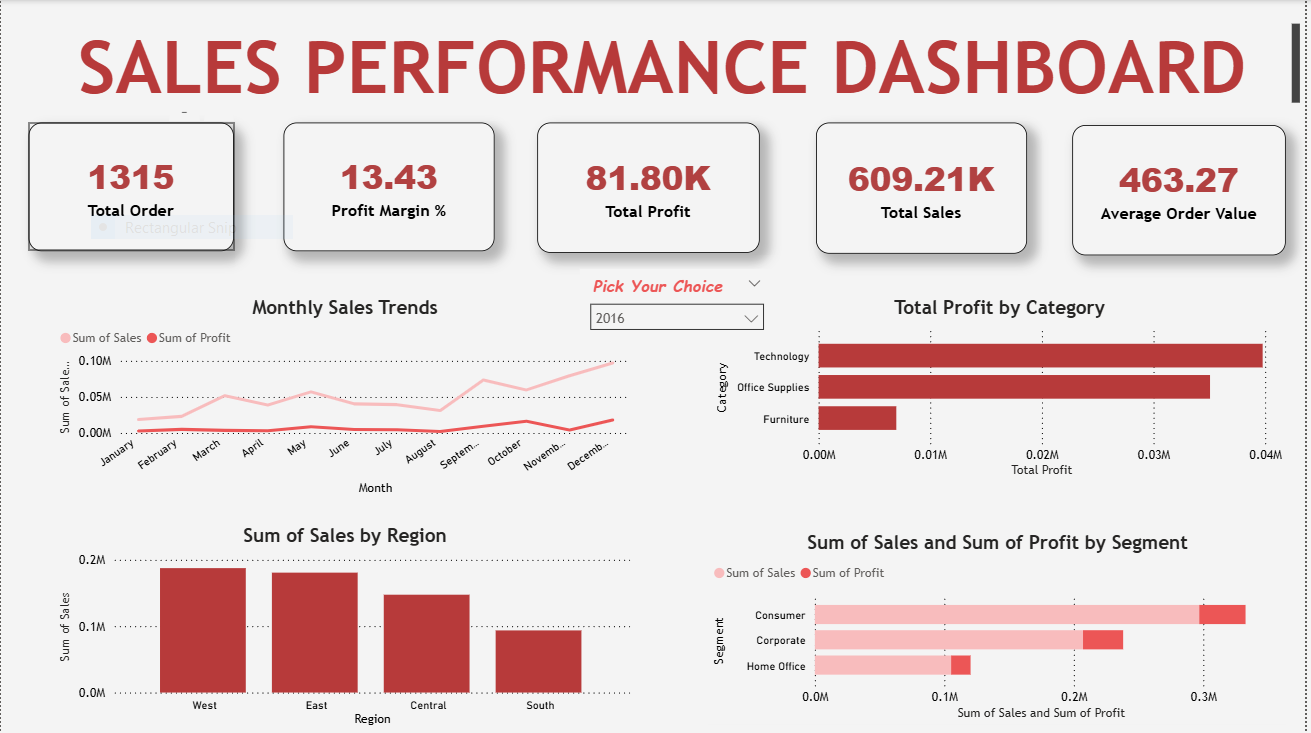

Layout of this report page (visuals, bound fields, positions):
{"tool":"powerbi","page":{"name":"Page 1","canvas":[1280,720],"ordinal":0},"visuals":[{"type":"card","fields":{"Values":["Sheet111.Total Order"]},"box":[27.4,120.8,201.7,126.2],"z":0},{"type":"card","fields":{"Values":["Sheet111.Total Profit"]},"box":[526.9,120.8,218.2,127.6],"z":1000},{"type":"card","fields":{"Values":["Sheet111.Total Sales"]},"box":[800,120.8,207.2,129],"z":2000},{"type":"card","fields":{"Values":["Sheet111.Profit Margin %"]},"box":[277.2,120.8,207.2,126.2],"z":3000},{"type":"card","fields":{"Values":["Sheet111.AOV"]},"box":[1051.1,122.1,209.9,127.6],"z":4000},{"type":"lineChart","title":" Monthly Sales Trends","fields":{"Y":["Sum(Sheet111.Sales)","Sum(Sheet111.Profit)"],"Category":["Sheet111.Order Date.Variation.Date Hierarchy.Month"]},"box":[52.3,290.7,569.8,200],"z":5000},{"type":"clusteredBarChart","fields":{"Y":["Sheet111.Total Profit"],"Category":["Sheet111.Category"]},"box":[697.7,290.7,564,182.6],"z":6000},{"type":"slicer","fields":{"Values":["Sheet111.Year","Sheet111.Category","Sheet111.Segment","Sheet111.Month"]},"box":[568.6,264,190.7,75.6],"z":7000},{"type":"barChart","fields":{"Category":["Sheet111.Segment"],"Y":["Sum(Sheet111.Sales)","Sum(Sheet111.Profit)"]},"box":[694.2,520.9,567.4,189.5],"z":8000},{"type":"columnChart","fields":{"Category":["Sheet111.Region"],"Y":["Sum(Sheet111.Sales)"]},"box":[52.3,514,569.8,203.5],"z":9000},{"type":"textbox","box":[27,18.4,1252.8,90.8],"z":10000}]}

Visuals, with their boxes in screenshot pixels (x1, y1, x2, y2), scaled from the page's 1280x720 canvas onto the 1311x733 screenshot:
card - Sheet111.Total Order: <region>28, 123, 235, 251</region>
card - Sheet111.Total Profit: <region>540, 123, 763, 253</region>
card - Sheet111.Total Sales: <region>819, 123, 1032, 254</region>
card - Sheet111.Profit Margin %: <region>284, 123, 496, 251</region>
card - Sheet111.AOV: <region>1077, 124, 1292, 254</region>
" Monthly Sales Trends" lineChart: <region>54, 296, 637, 500</region>
clusteredBarChart - Sheet111.Total Profit x Sheet111.Category: <region>715, 296, 1292, 482</region>
slicer - Sheet111.Year x Sheet111.Category: <region>582, 269, 778, 346</region>
barChart - Sheet111.Segment x Sum(Sheet111.Sales): <region>711, 530, 1292, 723</region>
columnChart - Sheet111.Region x Sum(Sheet111.Sales): <region>54, 523, 637, 730</region>
textbox: <region>28, 19, 1310, 111</region>
